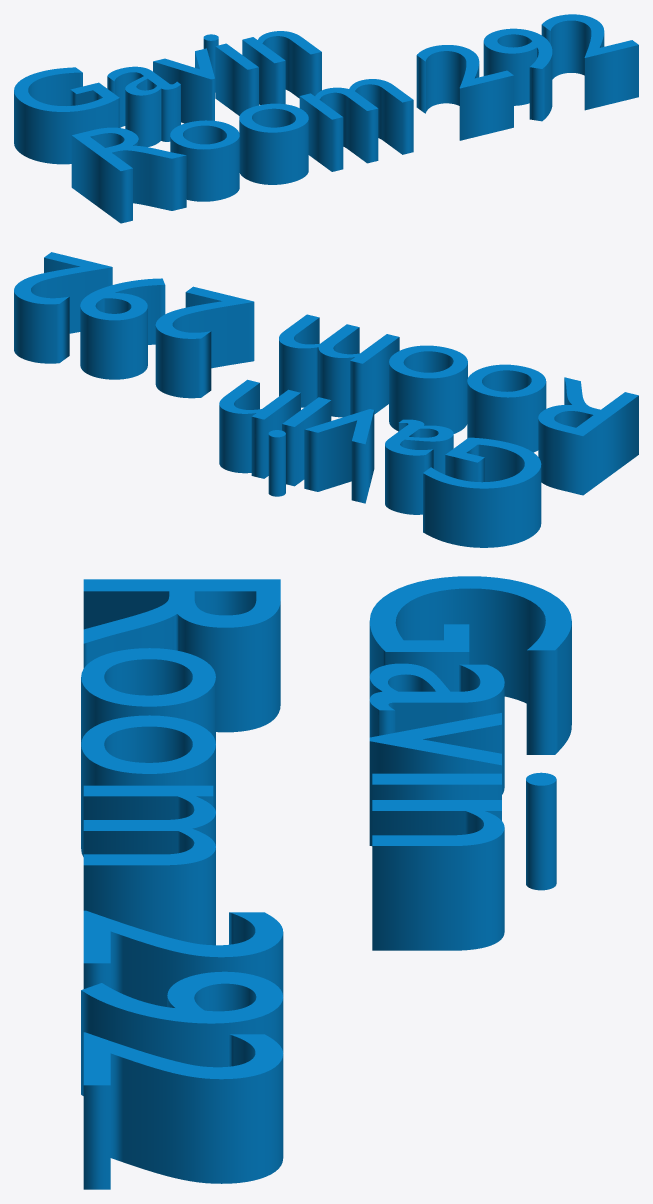
The model's file is gavin-292.gltf.
3 renders of one model, top to bottom at view 1: azimuth 30°, elevation 25°; view 2: azimuth 150°, elevation 25°; view 3: azimuth 270°, elevation 25°, orthographic. The views are drawn at different scales.
Visible parts, largest first — view 1: Text; view 2: Text; view 3: Text.
Part boxes in pixels (x1,y1,x2,y2): Text: (14,14,638,223); Text: (14,252,638,547); Text: (81,576,571,1189).
Bounding box in the file's own units: 4.17 × 0.4 × 1.7.
